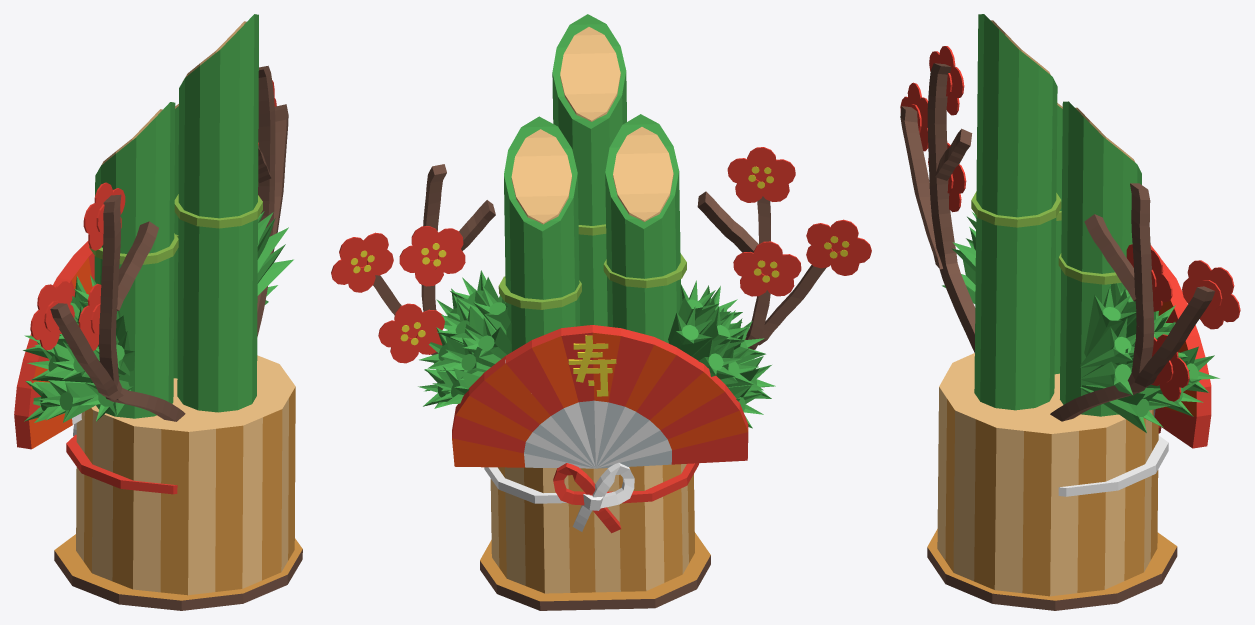
File: kadomatsu_free.glb
3 renders of one model, left to right at view 1: azimuth 30°, elevation 25°; view 2: azimuth 150°, elevation 25°; view 3: azimuth 270°, elevation 25°, orthographic. The views are drawn at different scales.
Visible parts, largest first — view 1: group1522038033, group1962033550, group791104047, group16554217, group1097251287, group596966921, group721622738, group1161720071, group1120999412, group774198697, group535238824, group920369241 (+14 smaller); view 2: group1522038033, group1184605265, group1097251287, group1622278290, group791104047, group756635626, group1962033550, group16554217, group1849855828, group894722733, group297313690, group535238824 (+22 smaller); view 3: group1522038033, group1962033550, group1622278290, group16554217, group756635626, group1161720071, group1120999412, group596966921, group721622738, group778912242, group1082016997, group74557504 (+14 smaller).
Part boxes in pixels (x1,y1,x2,y2): group1522038033: [76, 355, 295, 595]; group1962033550: [177, 14, 258, 412]; group791104047: [94, 102, 175, 418]; group16554217: [54, 534, 302, 610]; group1097251287: [14, 333, 81, 449]; group596966921: [99, 194, 121, 344]; group721622738: [50, 303, 123, 400]; group1161720071: [258, 65, 275, 201]; group1120999412: [99, 334, 185, 421]; group774198697: [66, 434, 177, 494]; group535238824: [116, 221, 158, 310]; group920369241: [38, 380, 97, 422]; group1522038033: [490, 464, 694, 593]; group1184605265: [506, 325, 676, 468]; group1097251287: [596, 347, 748, 468]; group1622278290: [504, 116, 580, 352]; group791104047: [605, 114, 680, 343]; group756635626: [452, 356, 595, 468]; group1962033550: [552, 14, 626, 326]; group16554217: [480, 533, 710, 610]; group1849855828: [560, 27, 620, 121]; group894722733: [511, 129, 571, 224]; group297313690: [613, 127, 673, 221]; group535238824: [697, 191, 758, 252]; group1522038033: [937, 353, 1158, 596]; group1962033550: [974, 14, 1057, 410]; group1622278290: [1060, 101, 1141, 416]; group16554217: [927, 529, 1177, 610]; group756635626: [1153, 307, 1211, 448]; group1161720071: [1130, 183, 1154, 334]; group1120999412: [930, 199, 975, 352]; group596966921: [927, 63, 951, 201]; group721622738: [900, 106, 942, 269]; group778912242: [1130, 286, 1214, 392]; group1082016997: [1050, 325, 1154, 421]; group74557504: [1058, 435, 1168, 496].
Size of the model in its own units: 0.1451 by 0.1881 by 0.1026.
